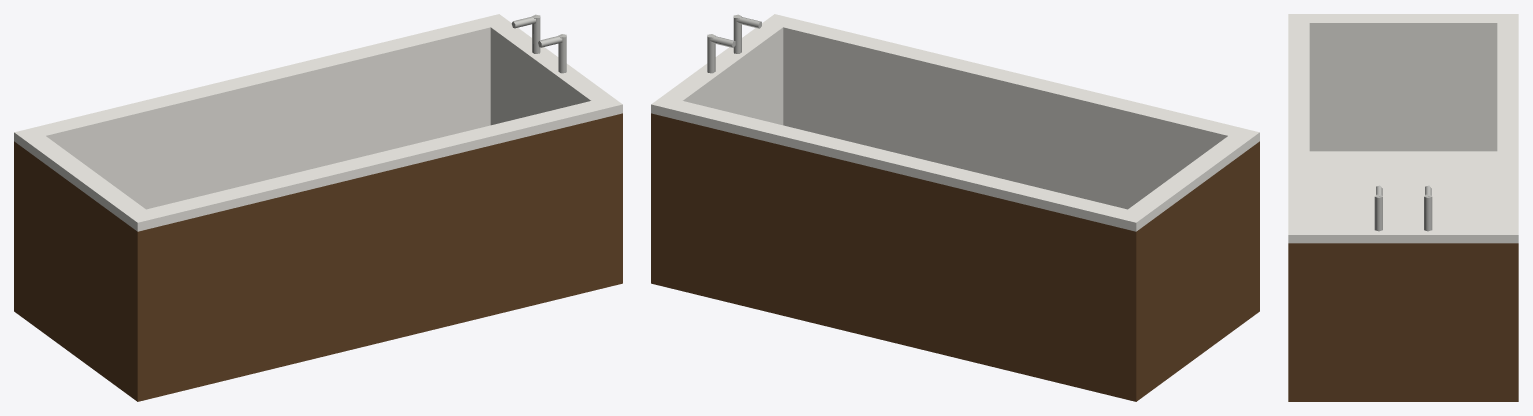
File: parametric-bath-1st-pub.glb
3 renders of one model, left to right at view 1: azimuth 30°, elevation 25°; view 2: azimuth 150°, elevation 25°; view 3: azimuth 270°, elevation 25°, orthographic. The views are drawn at different scales.
Visible parts, largest first — view 1: parametric-bath-1st-pub; view 2: parametric-bath-1st-pub; view 3: parametric-bath-1st-pub.
Boxes of the visible parts, <box> form: parametric-bath-1st-pub: <box>14,14,622,401</box>; parametric-bath-1st-pub: <box>651,14,1259,401</box>; parametric-bath-1st-pub: <box>1288,14,1518,401</box>.
Bounding box in the file's own units: 1.7 × 0.7214 × 0.75.
